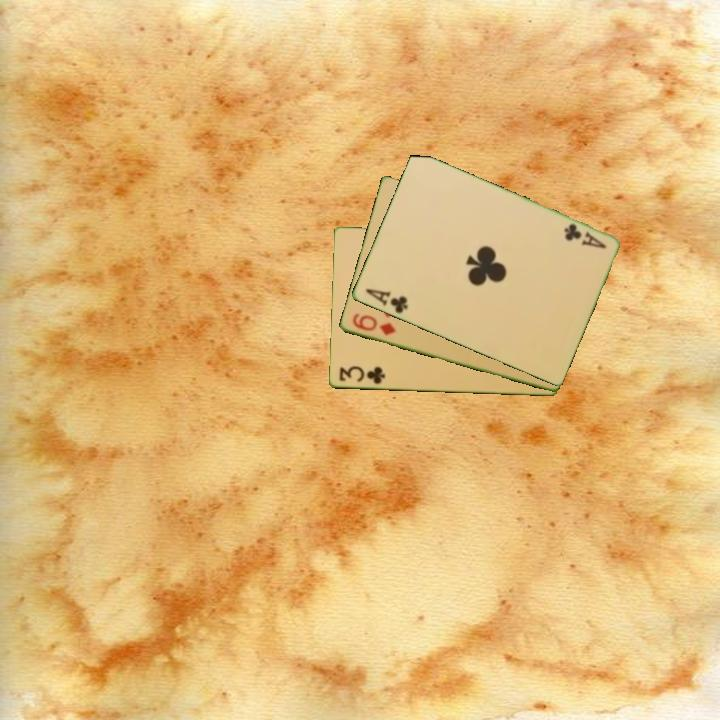3c: (336, 363, 388, 387)
6d: (348, 310, 398, 338)
Ac: (560, 220, 609, 252), (362, 285, 410, 317)
